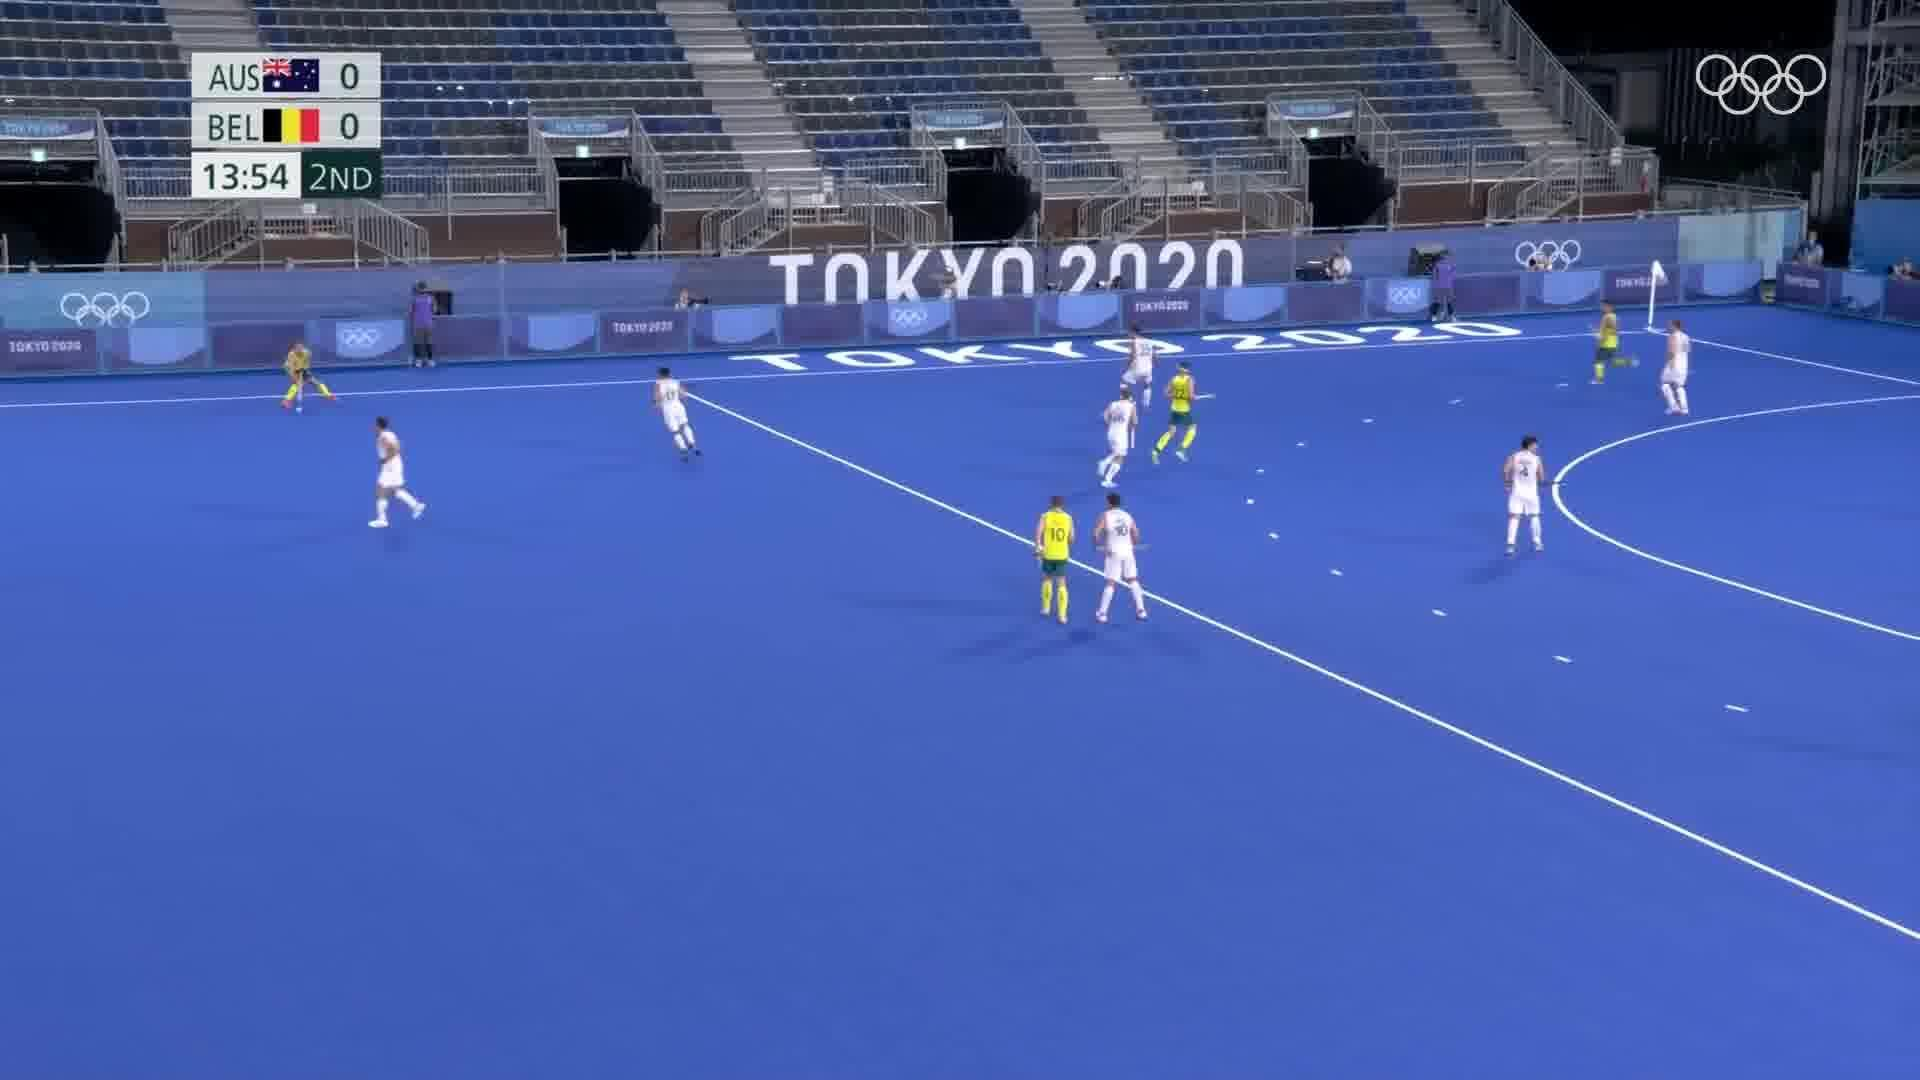ball: (290, 402, 309, 419)
